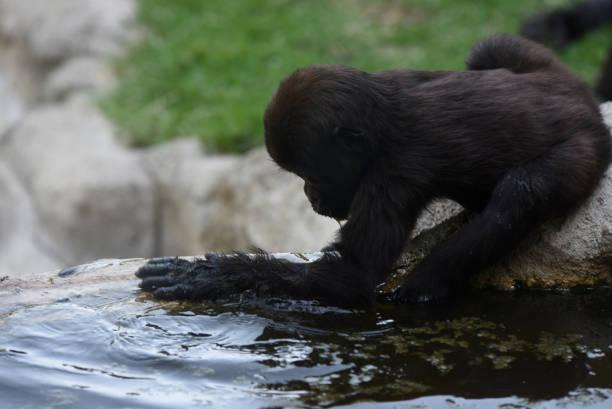gorille_Autres: (172, 0, 612, 320)
